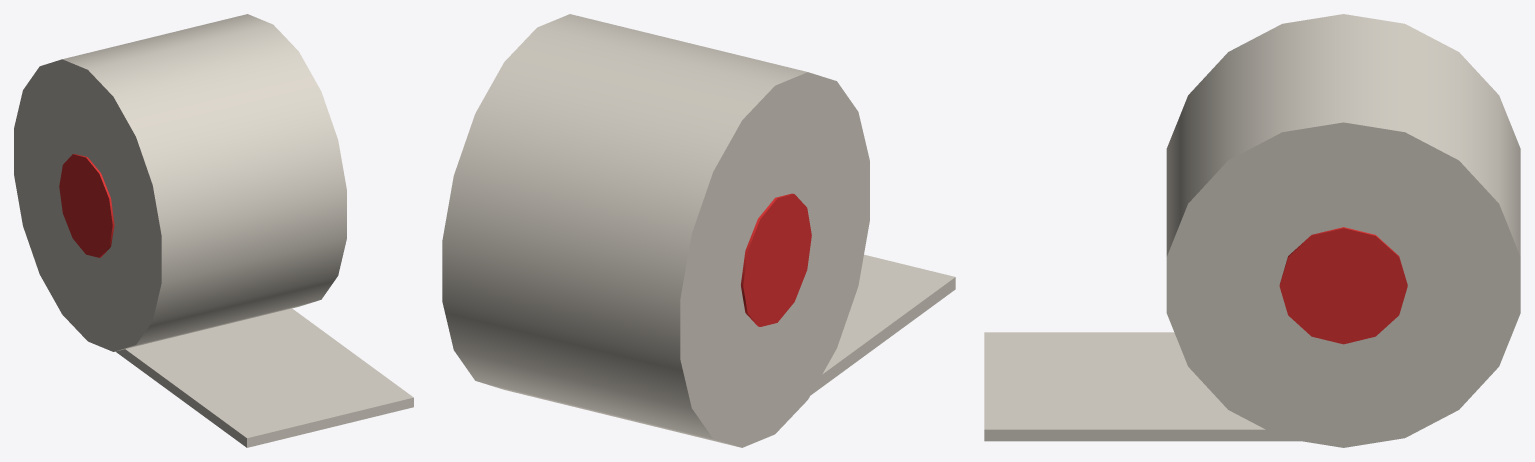
The model's file is Bandage.glb.
The picture shows the model from 3 angles, left to right: view 1: azimuth 30°, elevation 25°; view 2: azimuth 150°, elevation 25°; view 3: azimuth 270°, elevation 25°; orthographic projection. The views are drawn at different scales.
Parts seen in each view (by area): view 1: Roll, Tail, Core; view 2: Roll, Tail, Core; view 3: Roll, Tail, Core.
Part boxes in pixels (box(x1,y1,x2,y2)): Roll: box(14, 14, 346, 351); Tail: box(116, 308, 413, 447); Core: box(59, 154, 114, 257); Roll: box(442, 14, 869, 447); Tail: box(810, 254, 955, 395); Core: box(741, 193, 811, 326); Roll: box(1166, 14, 1520, 447); Tail: box(984, 332, 1300, 441); Core: box(1279, 227, 1407, 344).
Size of the model in its own units: 0.102 by 0.14 by 0.2089.
